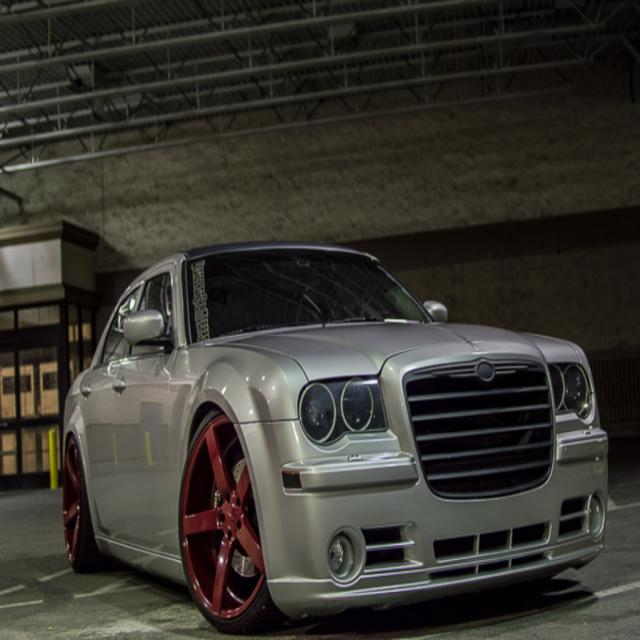car: (57, 236, 612, 637)
